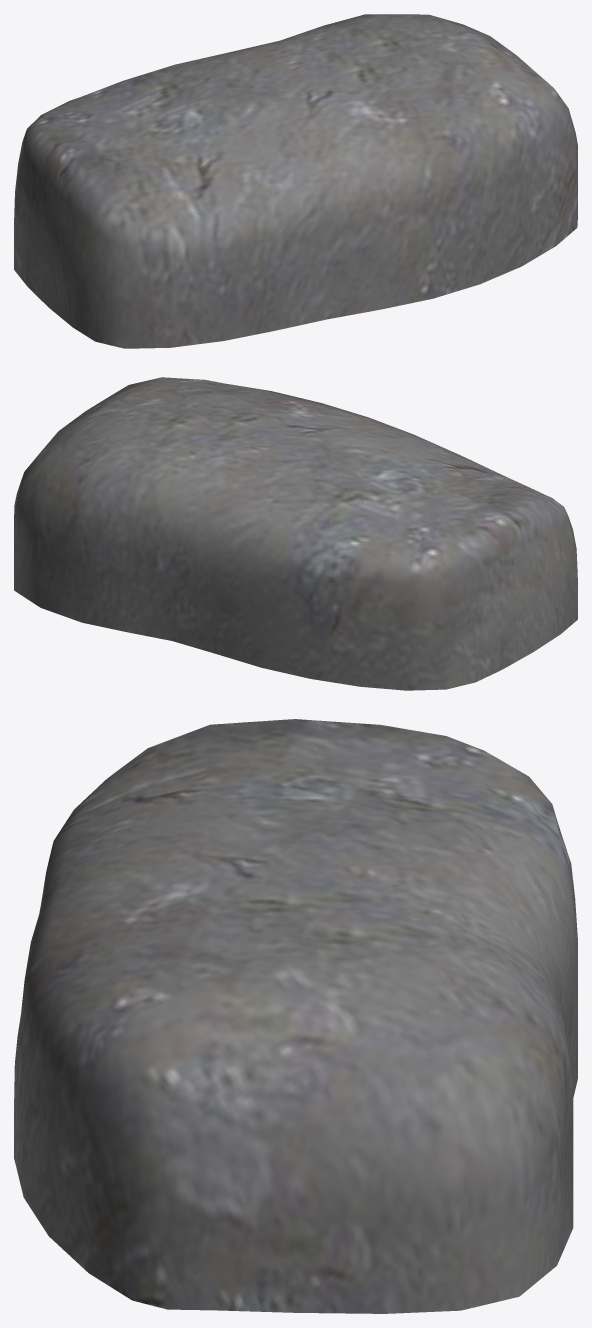
Rendered from SM_Sun_Pal_Stone_F.fbx.
The picture shows the model from 3 angles, top to bottom: view 1: azimuth 30°, elevation 25°; view 2: azimuth 150°, elevation 25°; view 3: azimuth 270°, elevation 25°; orthographic projection. The views are drawn at different scales.
Visible parts, largest first — view 1: SM_Sun_Pal_Stone_F; view 2: SM_Sun_Pal_Stone_F; view 3: SM_Sun_Pal_Stone_F.
Part boxes in pixels (<box>): SM_Sun_Pal_Stone_F: <box>14,14,577,348</box>; SM_Sun_Pal_Stone_F: <box>14,377,577,690</box>; SM_Sun_Pal_Stone_F: <box>14,719,577,1313</box>.
Size of the model in its own units: 94.41 by 30.06 by 57.46.
